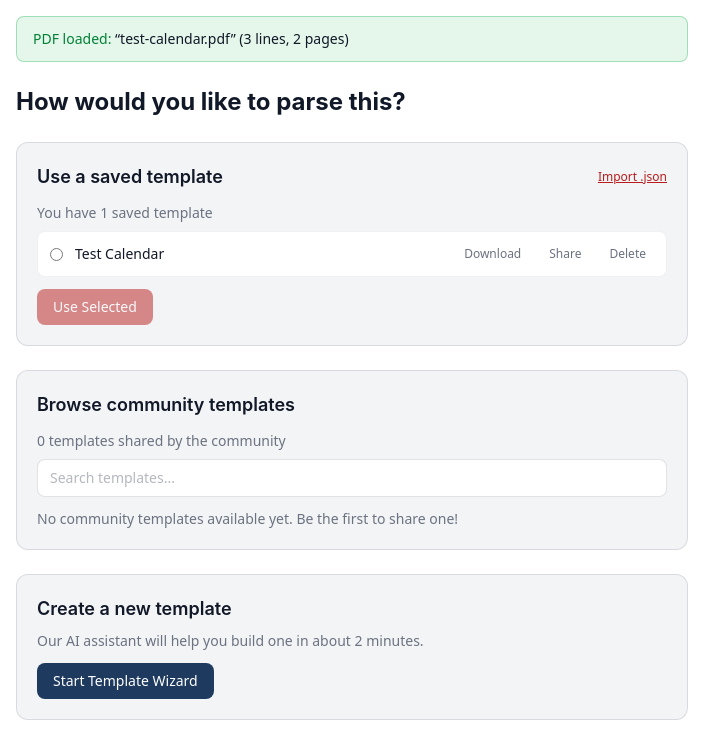
Test: TemplateSelectionPage › deletes a saved template after confirmation
Click the button with aria-label "Delete Test Calendar" at (628,254), box [602,240,654,268]
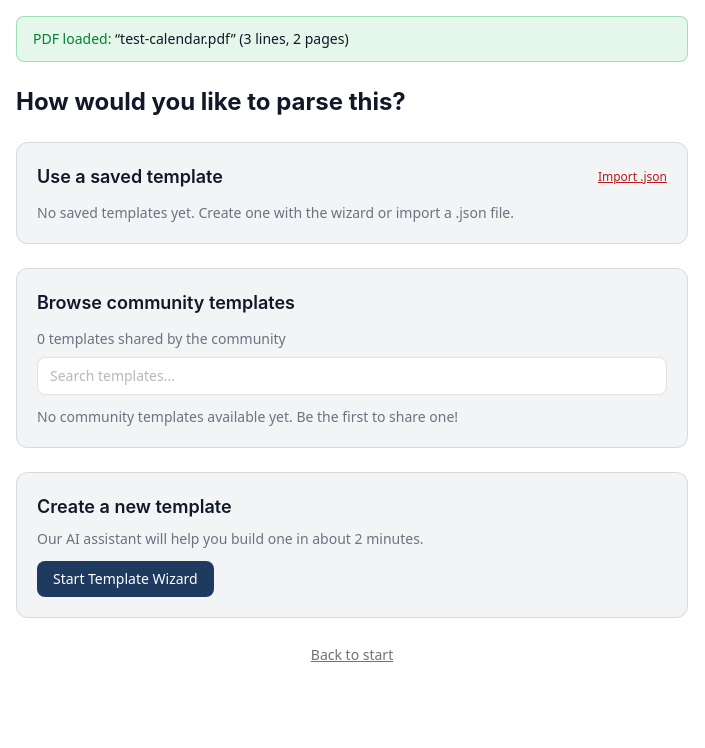
expect the text "No saved templates yet" is shown: met, box [37,203,514,222]
